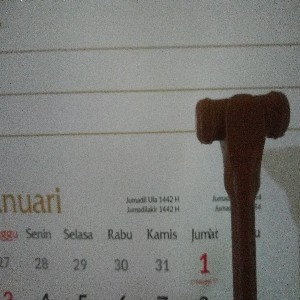palu: (195, 88, 291, 300)
